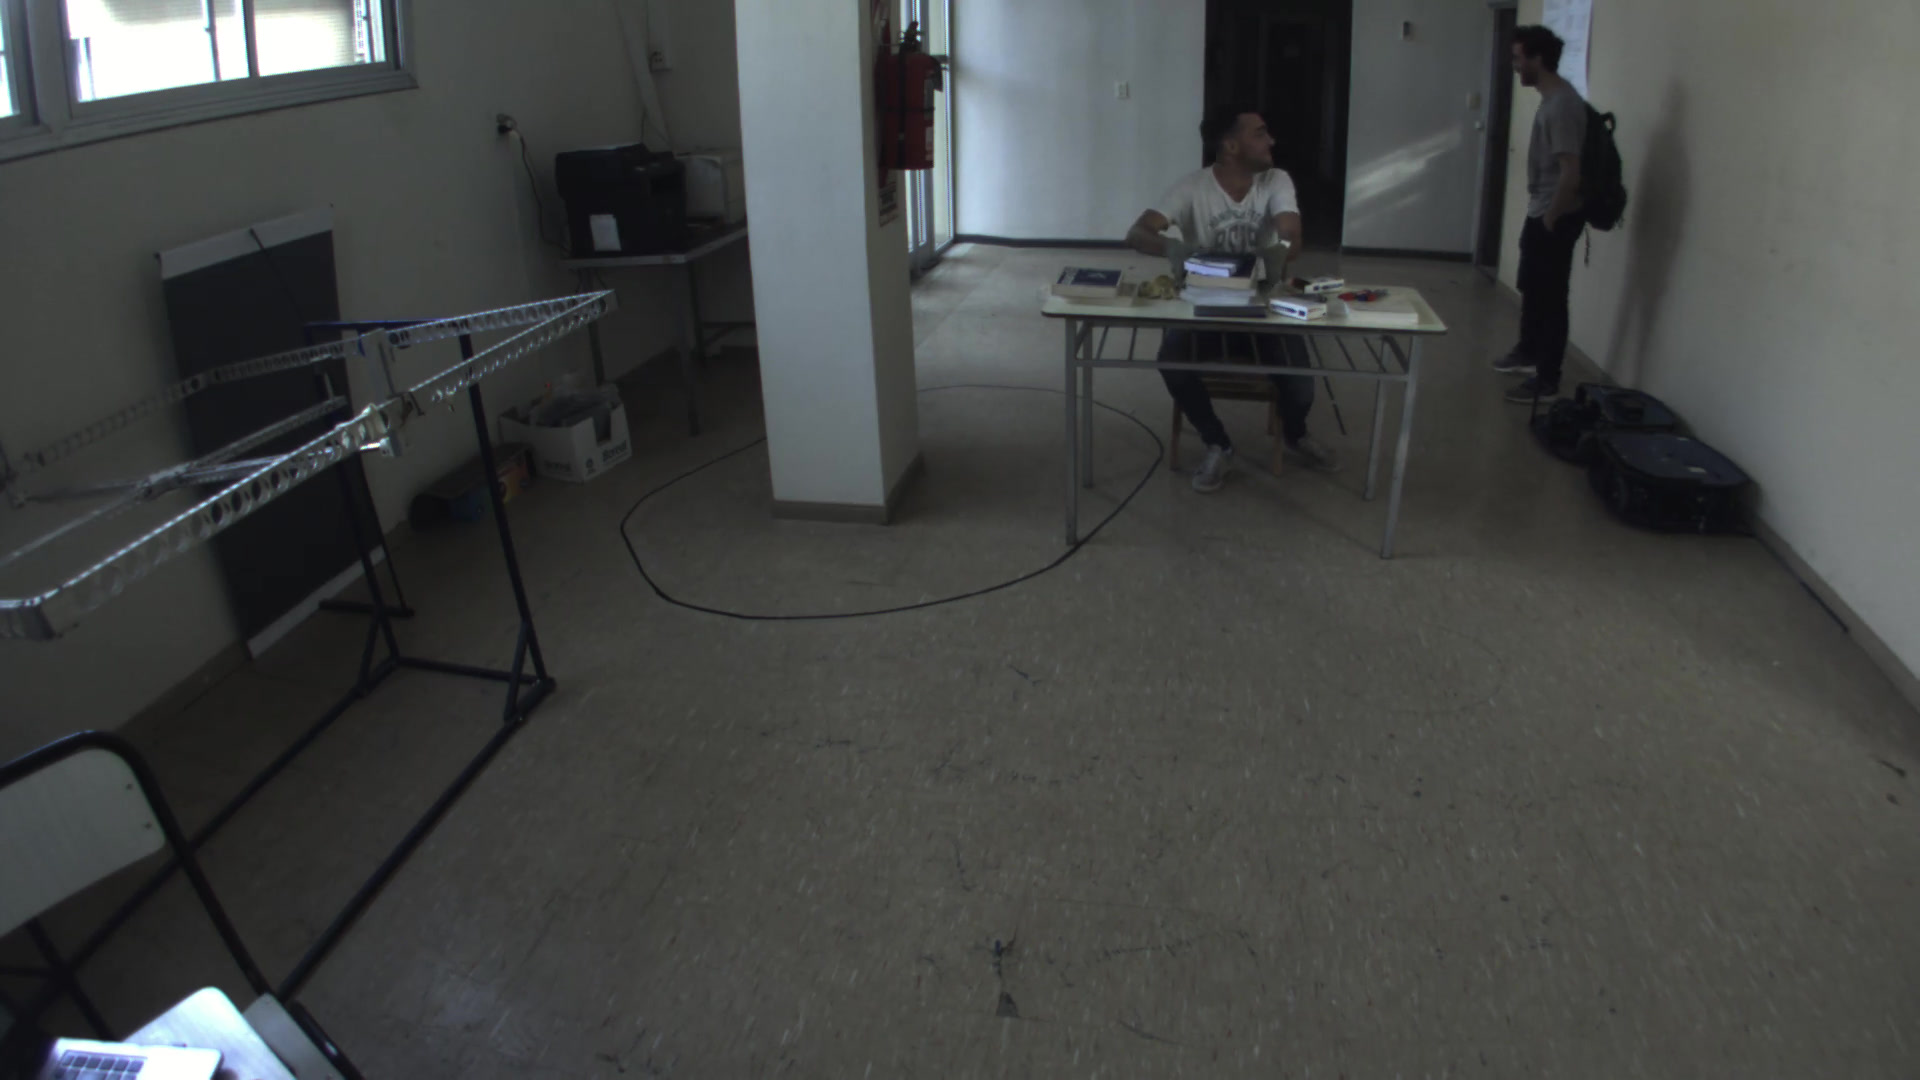hand: (1166, 239, 1212, 291), (1242, 235, 1287, 277)
